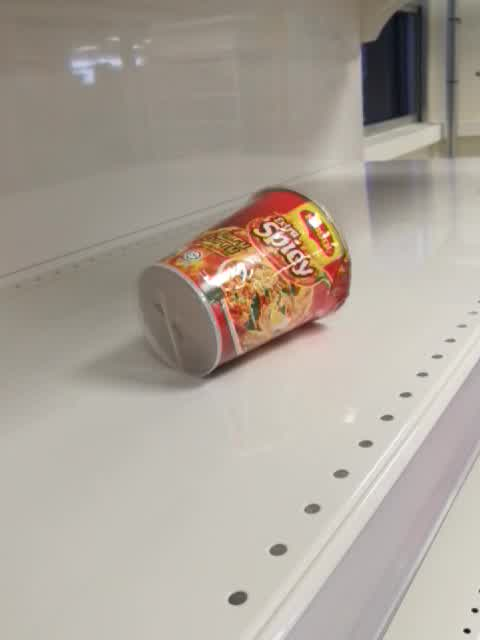maggi: (133, 184, 352, 380)
